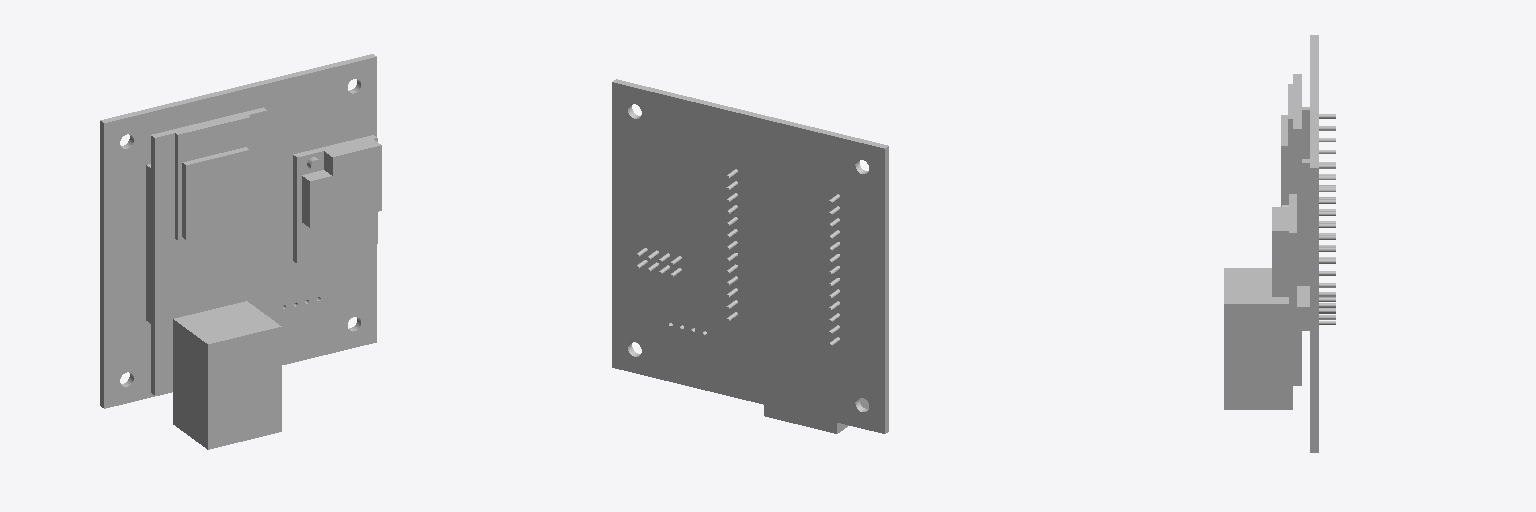
The model's file is MLH3 v1.0.obj.
3 renders of one model, left to right at view 1: azimuth 30°, elevation 25°; view 2: azimuth 150°, elevation 25°; view 3: azimuth 270°, elevation 25°, orthographic.
Visible parts, largest first — view 1: PCB, PCB:1, RJ45, SX11278, ESP32-wroom, PCB:2, Antenna, J2; view 2: PCB, RJ45; view 3: RJ45, PCB, PCB:1, SX11278, PCB:2, J1, ESP32-wroom, connecteur, Antenna.
Part boxes in pixels (left/top/right/bottom): PCB: left=100, top=54, right=376, bottom=408; PCB:1: left=151, top=107, right=267, bottom=394; RJ45: left=173, top=301, right=281, bottom=449; SX11278: left=302, top=139, right=381, bottom=227; ESP32-wroom: left=182, top=147, right=249, bottom=239; PCB:2: left=293, top=135, right=377, bottom=263; Antenna: left=175, top=115, right=250, bottom=240; J2: left=146, top=164, right=150, bottom=323; PCB: left=612, top=79, right=888, bottom=433; RJ45: left=764, top=398, right=868, bottom=433; RJ45: left=1224, top=268, right=1292, bottom=409; PCB: left=1310, top=35, right=1318, bottom=452; PCB:1: left=1293, top=74, right=1301, bottom=385; SX11278: left=1272, top=207, right=1288, bottom=296; PCB:2: left=1289, top=194, right=1296, bottom=339; J1: left=1302, top=159, right=1309, bottom=285; ESP32-wroom: left=1281, top=115, right=1287, bottom=206; connecteur: left=1297, top=286, right=1309, bottom=330; Antenna: left=1288, top=84, right=1292, bottom=204.
Bounding box in the file's own units: 60.96 × 66.06 × 21.8.